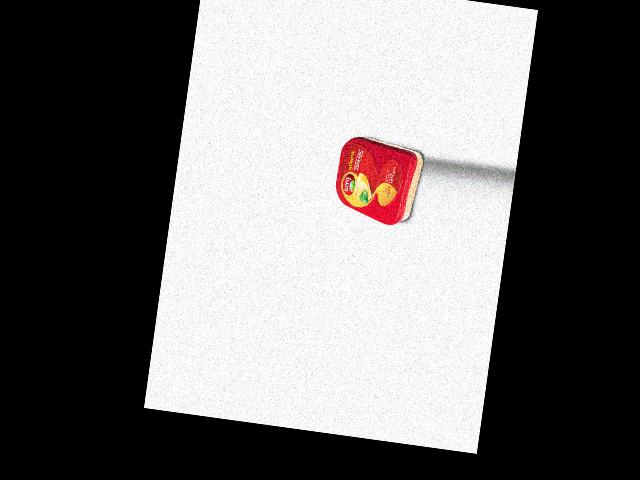cheese: (331, 134, 425, 228)
